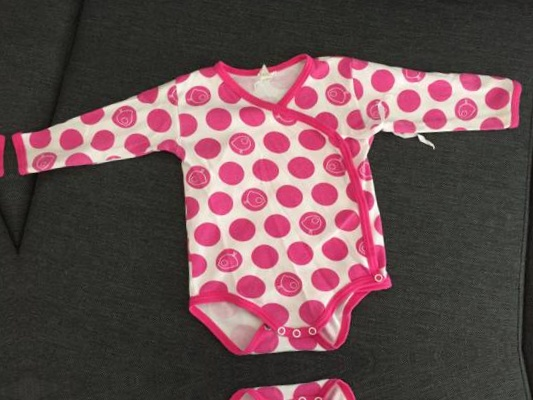Body: (12, 16, 533, 373), (40, 363, 533, 400), (0, 60, 17, 400)
